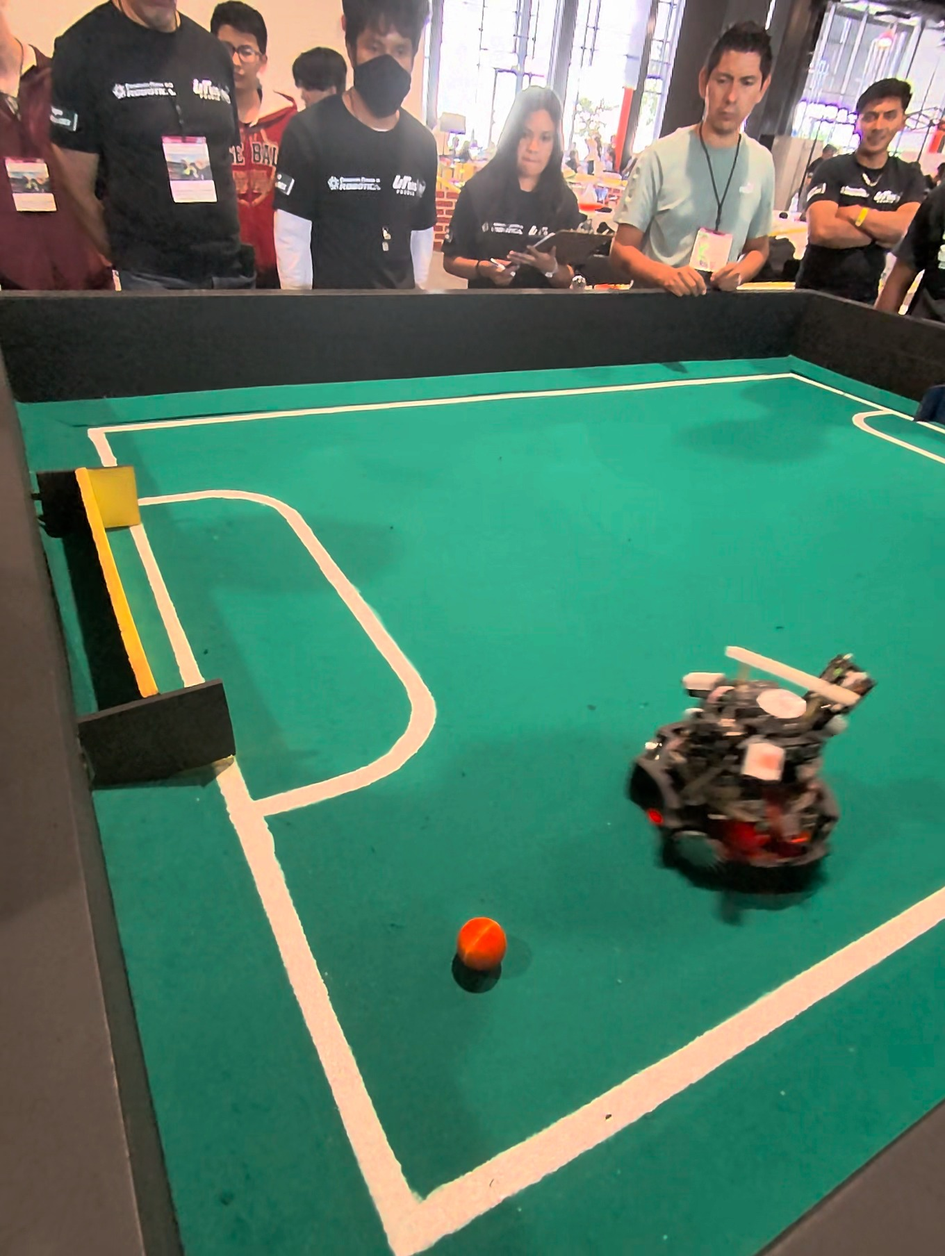Robot: (614, 609, 873, 916)
pelota: (454, 923, 507, 993)
